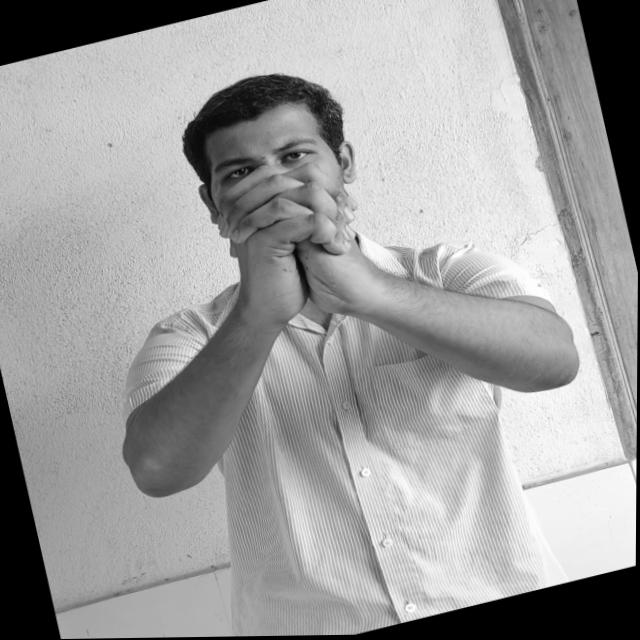Sorry: (205, 145, 374, 330)
